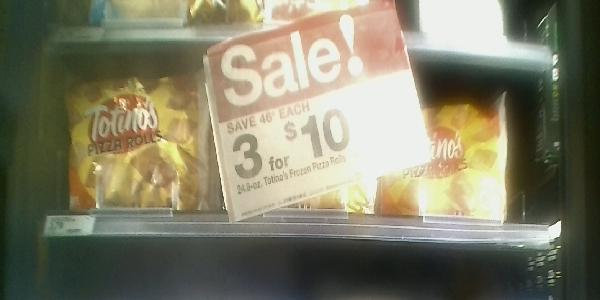icecream: (210, 44, 381, 215), (60, 60, 213, 216), (379, 89, 517, 221)
